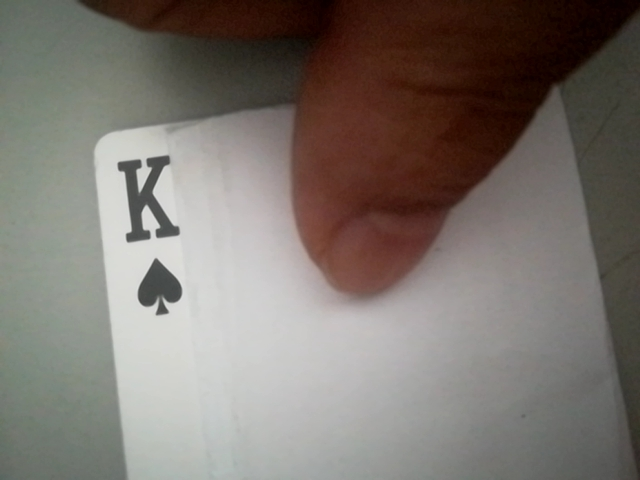ht k: (103, 141, 201, 322)
